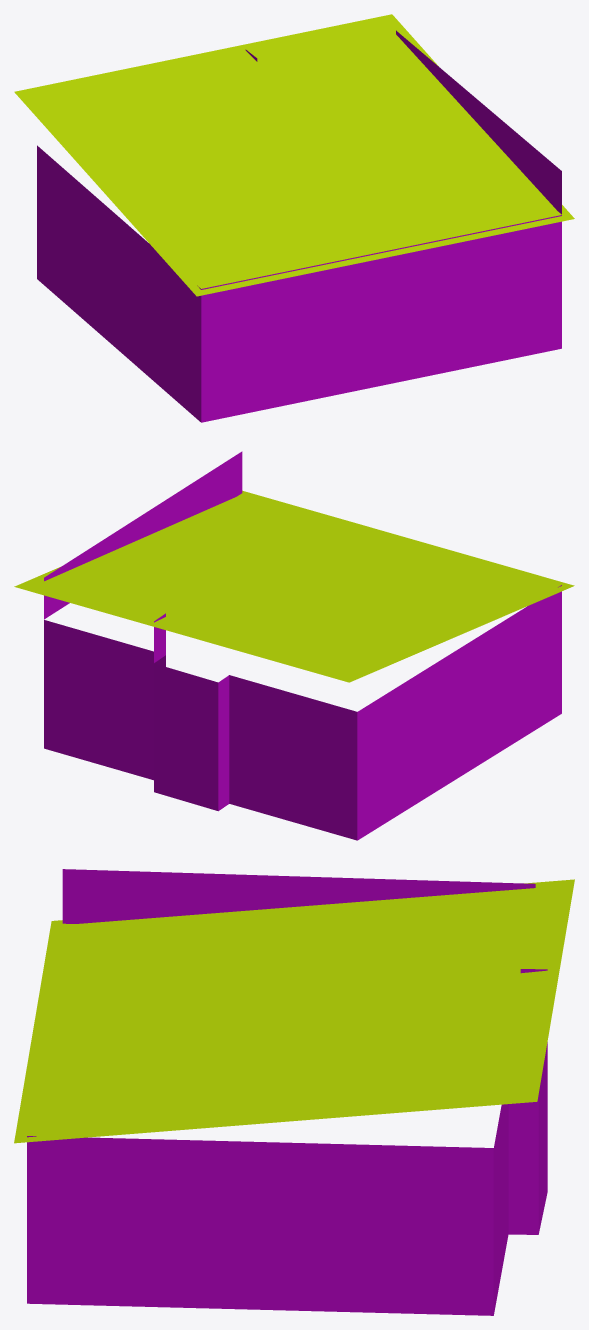
File: rmc_117.glb
3 views of the same model, one above another, from view 1: azimuth 30°, elevation 25°; view 2: azimuth 150°, elevation 25°; view 3: azimuth 270°, elevation 25° (orthographic). The views are drawn at different scales.
Parts seen in each view (by area): view 1: rmc_117; view 2: rmc_117; view 3: rmc_117.
Part boxes in pixels (x1,y1,x2,y2): rmc_117: (14,14,574,422); rmc_117: (14,451,574,840); rmc_117: (14,869,574,1315).
Bounding box in the file's own units: 18.7 × 8.14 × 18.61.
